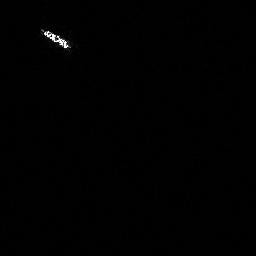ship: (38, 25, 74, 51)
